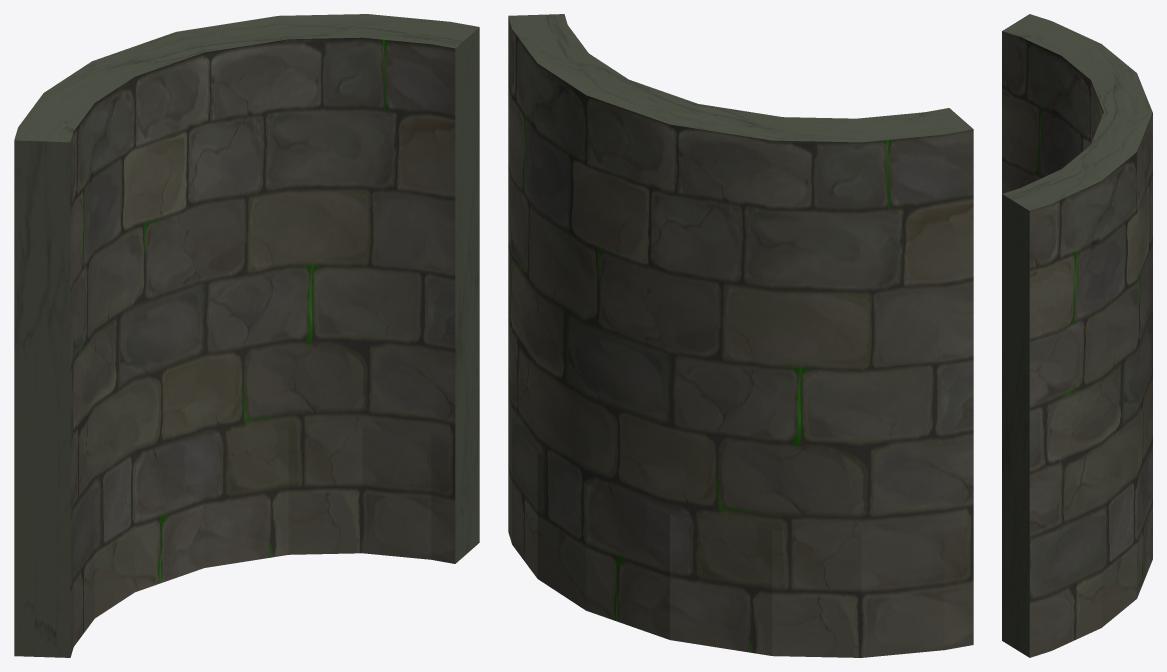
File: SM_Wall_Corner_True.fbx
3 renders of one model, left to right at view 1: azimuth 30°, elevation 25°; view 2: azimuth 150°, elevation 25°; view 3: azimuth 270°, elevation 25°, orthographic. The views are drawn at different scales.
Parts seen in each view (by area): view 1: SM_Wall_Corner_true1; view 2: SM_Wall_Corner_true1; view 3: SM_Wall_Corner_true1.
Boxes of the visible parts, x1=… form: SM_Wall_Corner_true1: x1=14, y1=14, x2=479, y2=657; SM_Wall_Corner_true1: x1=508, y1=14, x2=973, y2=657; SM_Wall_Corner_true1: x1=1002, y1=14, x2=1152, y2=657.
Bounding box in the file's own units: 2.32 × 2.46 × 0.751.
